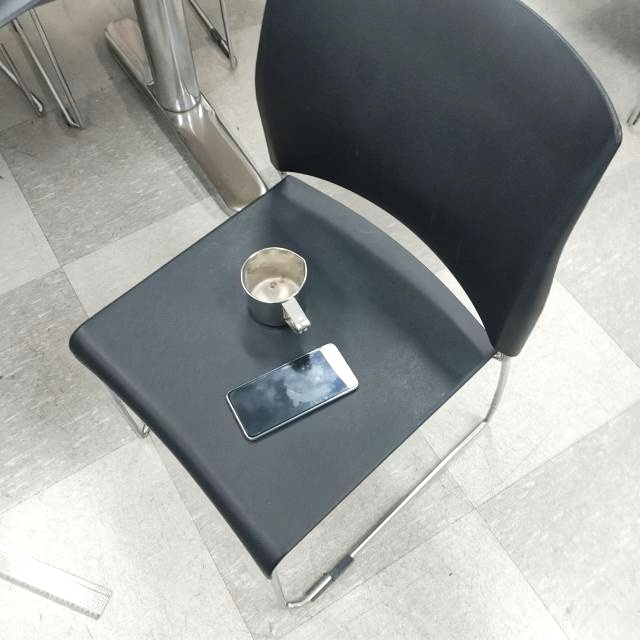cup: (240, 242, 313, 340)
phone: (225, 342, 359, 445)
